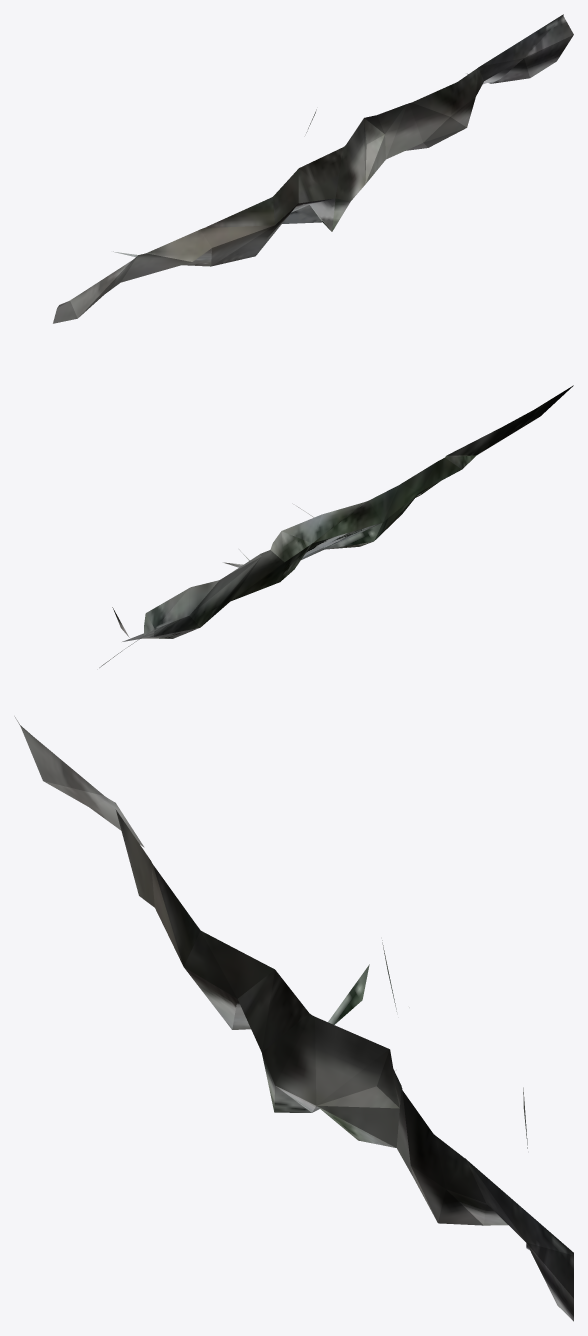
The picture shows the model from 3 angles, top to bottom: view 1: azimuth 30°, elevation 25°; view 2: azimuth 210°, elevation 25°; view 3: azimuth 270°, elevation 25°; orthographic projection. The views are drawn at different scales.
Size of the model in its own units: 0.6627 by 0.0662 by 0.2873.
Materials: 1 (1 with a texture image).
